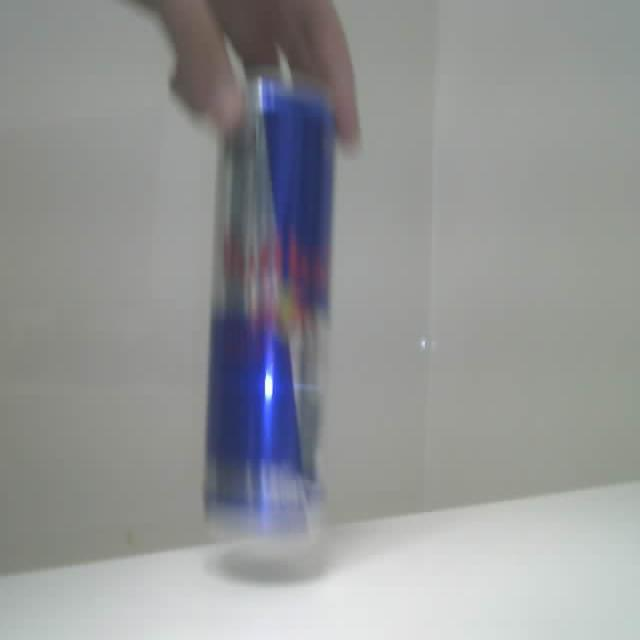redbull can: (205, 75, 334, 534)
